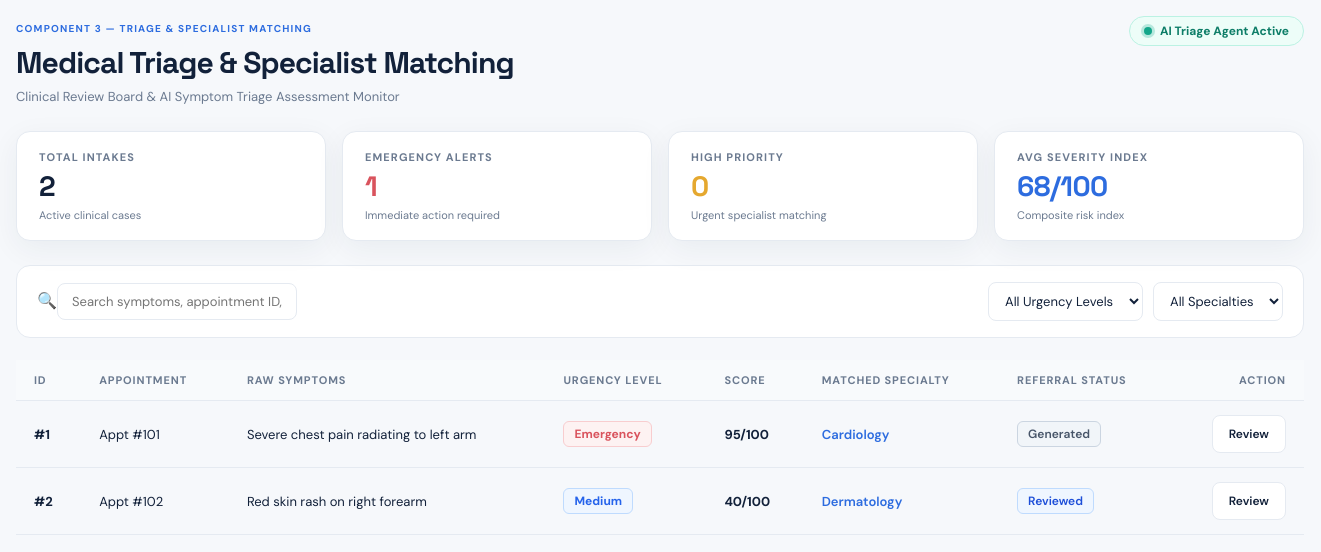
Test case: ClinicalReviewView › filters table rows when search query is entered
This screenshot has width=1321, height=552.
Expected: the text "Severe chest pain radiating to left arm" is shown, top-left (229, 400), bottom-right (545, 468)
In the field with placeholder "Search symptoms, appointment ID, or specialty...": {"x": 177, "y": 302} top-left (57, 283), bottom-right (297, 320), type "Dermatology"
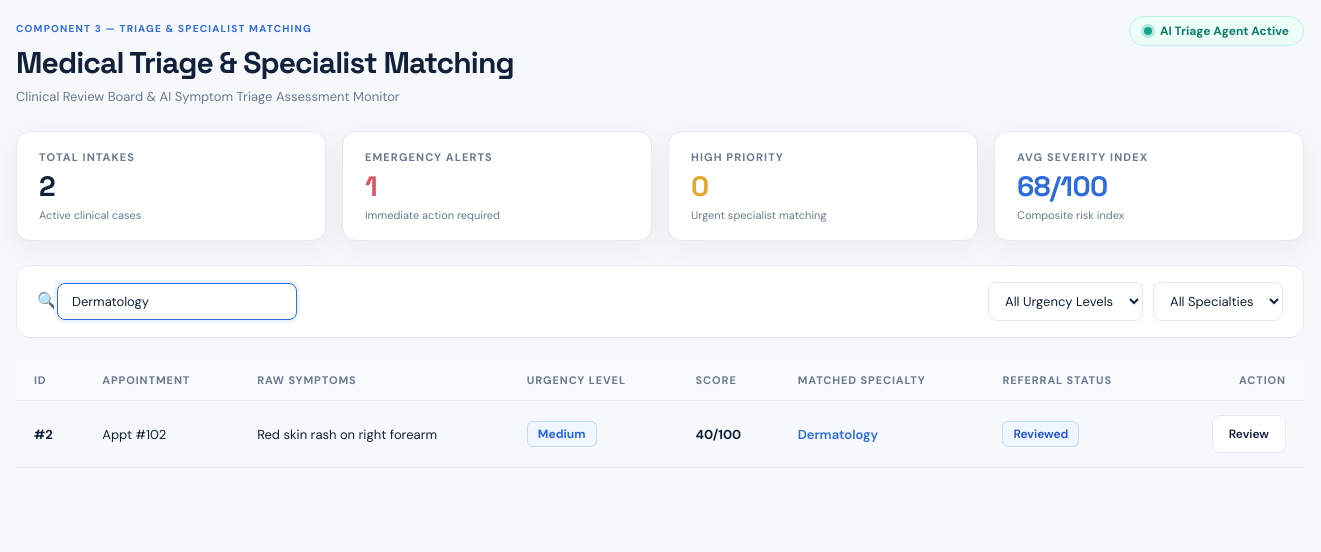
Expected: the text "Red skin rash on right forearm" is shown, top-left (239, 400), bottom-right (509, 468)
Expected: the text "Severe chest pain" is gone
